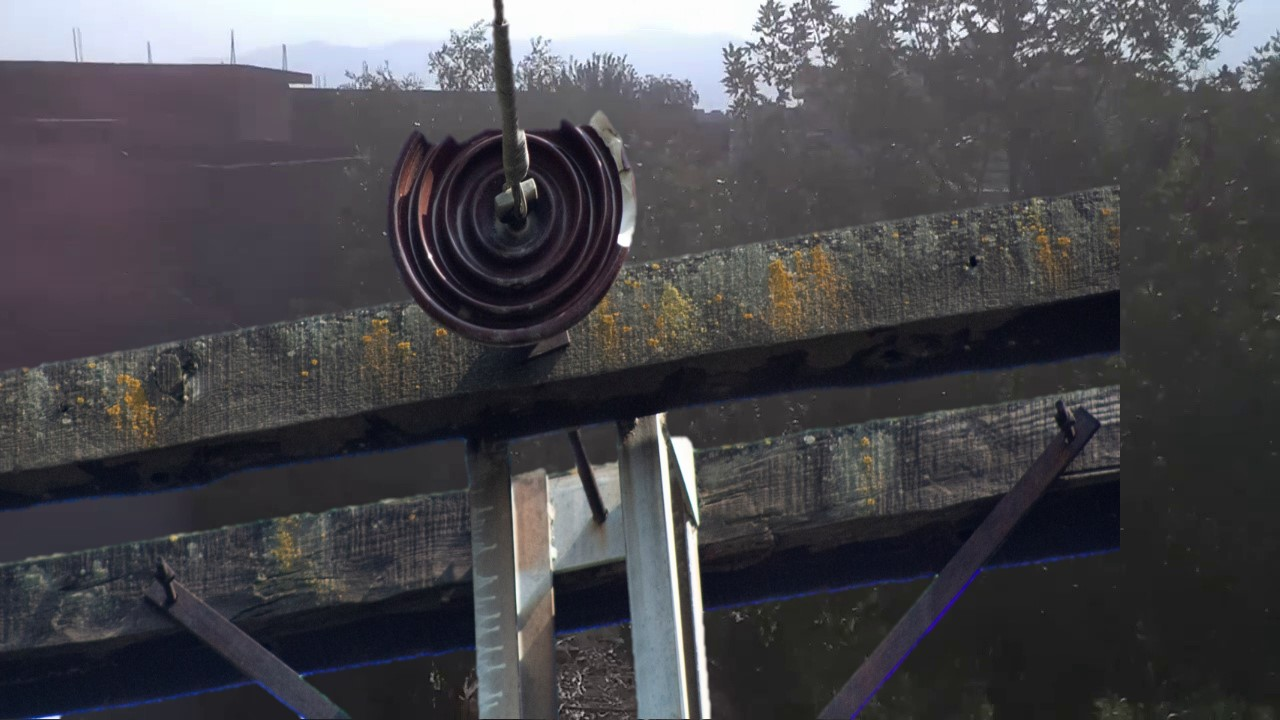defect_disc: (383, 99, 643, 351)
